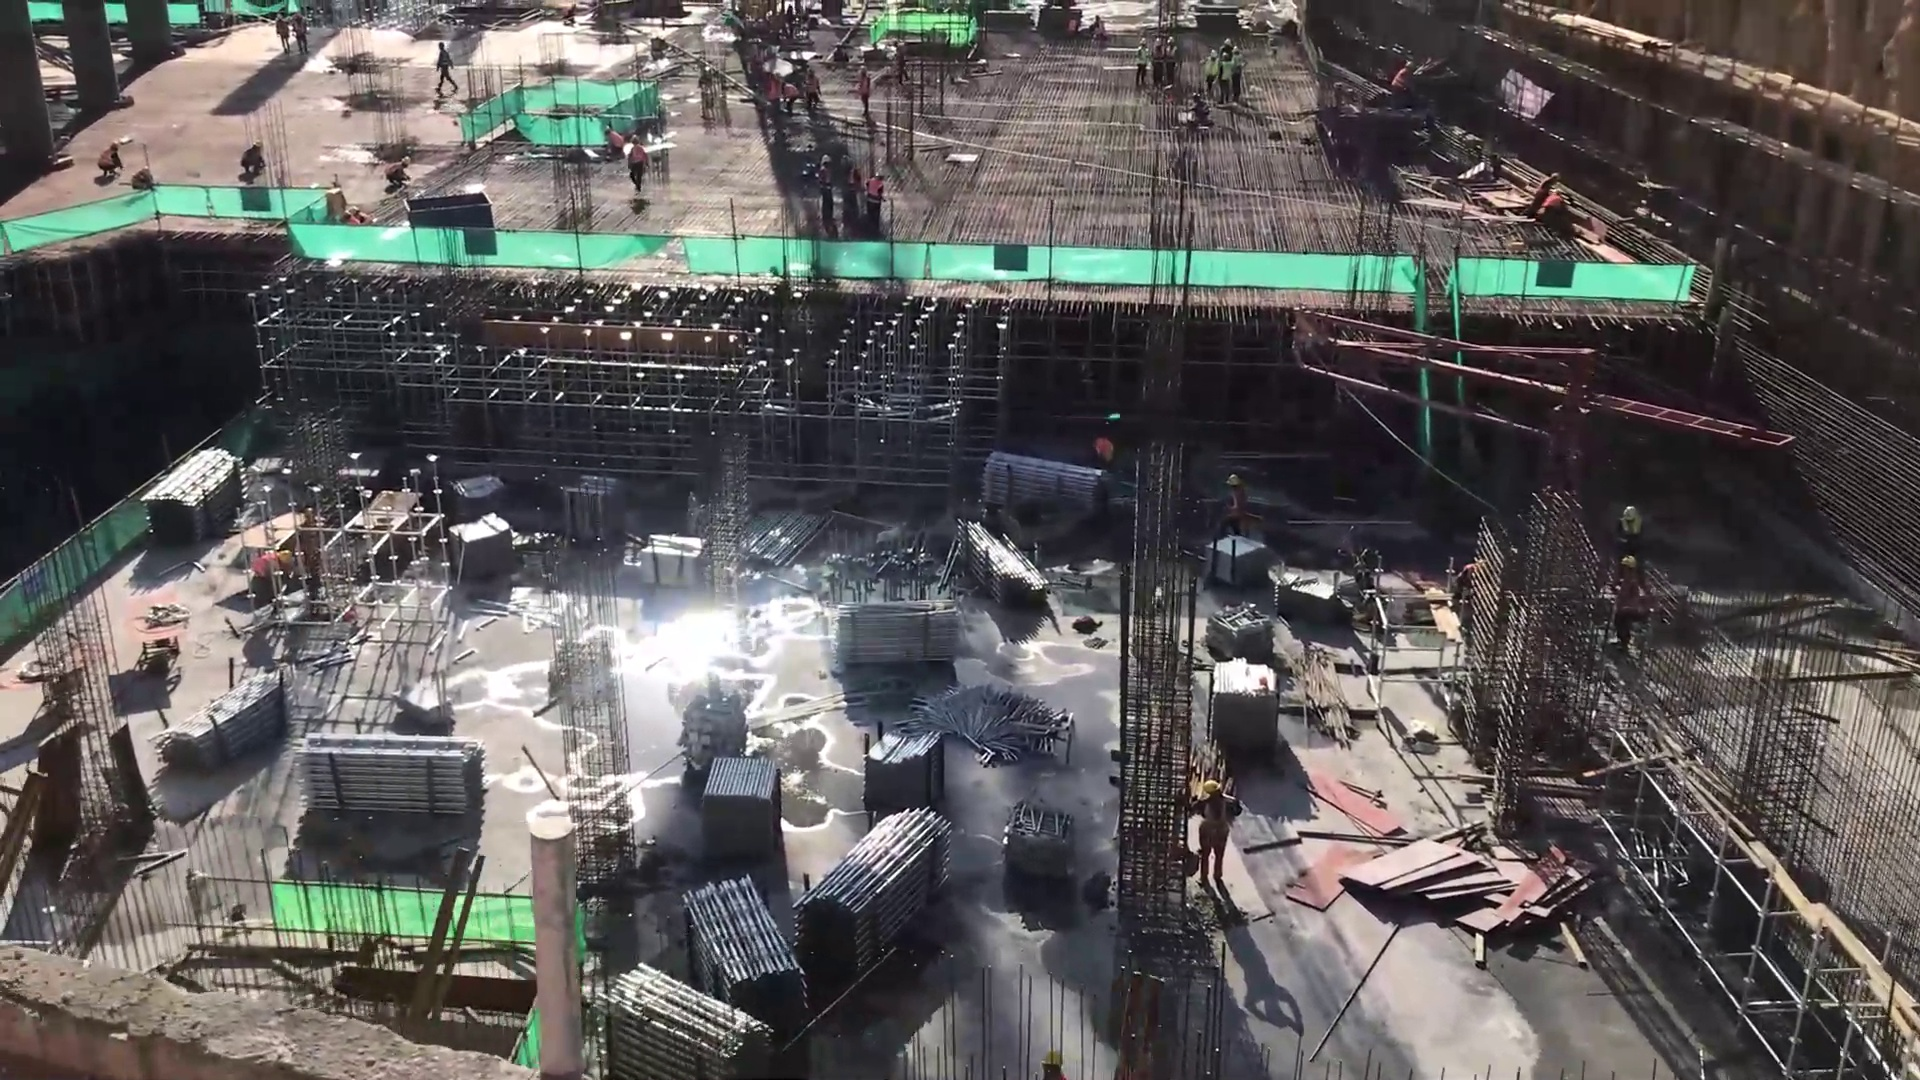helmet: (1202, 778, 1220, 791), (1622, 506, 1637, 519)
person: (1188, 778, 1242, 899), (296, 508, 328, 603), (1214, 473, 1251, 548), (1615, 553, 1639, 665), (249, 543, 295, 599), (430, 40, 459, 100), (628, 130, 649, 199), (840, 154, 860, 226), (238, 136, 268, 181), (867, 172, 886, 234), (853, 69, 876, 122), (816, 154, 832, 230), (1615, 499, 1641, 545), (1536, 167, 1556, 224), (387, 156, 417, 193), (1230, 48, 1250, 100), (1391, 60, 1417, 99), (98, 140, 122, 176), (599, 123, 624, 158), (802, 68, 824, 108), (272, 7, 289, 58), (1551, 188, 1571, 231), (1218, 53, 1231, 110), (1150, 34, 1163, 89), (293, 9, 308, 53), (1134, 37, 1148, 82), (783, 77, 796, 125), (1168, 32, 1180, 84), (1187, 93, 1210, 120), (764, 70, 778, 112), (134, 166, 155, 193), (1204, 49, 1216, 90), (1217, 39, 1235, 57)
